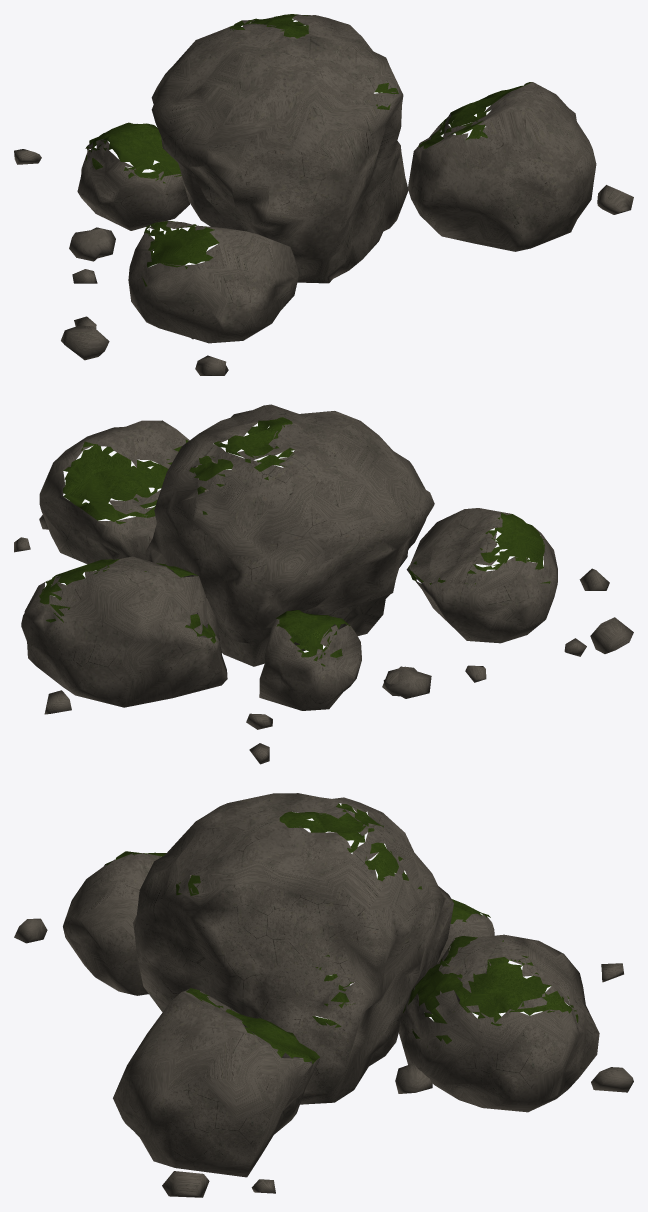
File: rock_cluster.glb
The picture shows the model from 3 angles, top to bottom: view 1: azimuth 30°, elevation 25°; view 2: azimuth 150°, elevation 25°; view 3: azimuth 270°, elevation 25°; orthographic projection. The views are drawn at different scales.
Parts seen in each view (by area): view 1: rock_cluster_rock, rock_cluster_moss; view 2: rock_cluster_rock, rock_cluster_moss; view 3: rock_cluster_rock, rock_cluster_moss.
Boxes of the visible parts, x1,y1,x2,y2 form: rock_cluster_rock: (14, 14, 633, 375); rock_cluster_moss: (85, 14, 531, 286); rock_cluster_rock: (14, 404, 633, 764); rock_cluster_moss: (39, 417, 550, 666); rock_cluster_rock: (14, 793, 633, 1197); rock_cluster_moss: (105, 803, 578, 1063).
Size of the model in its own units: 2.37 by 0.8546 by 1.99.
2 materials, 2 textured.
